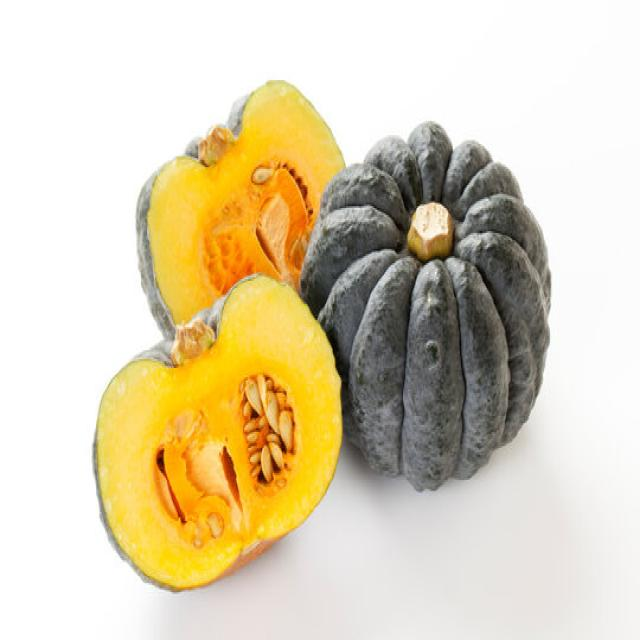Pumpkin: (298, 117, 552, 491), (91, 272, 343, 592), (134, 76, 346, 342)
